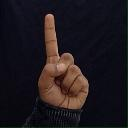hand: (37, 12, 89, 109)
